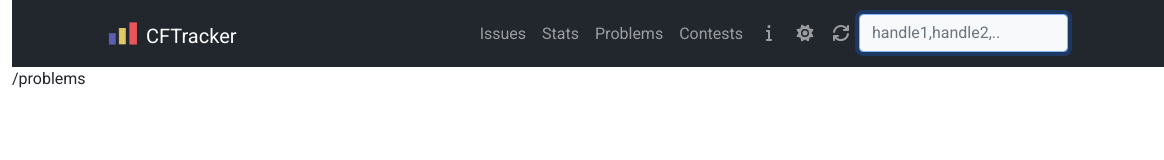
Test: the Contests menu link navigates to /contests
The width and height of the screenshot is (1164, 160).
Click the link "Contests" at (711, 33), box [679,24,743,43]
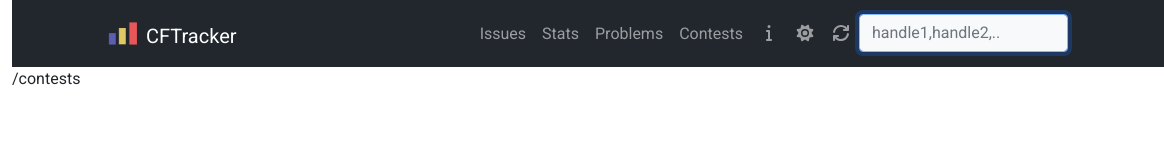
Expected: the text with test id "location" reads "/contests", [12,69,80,88]
